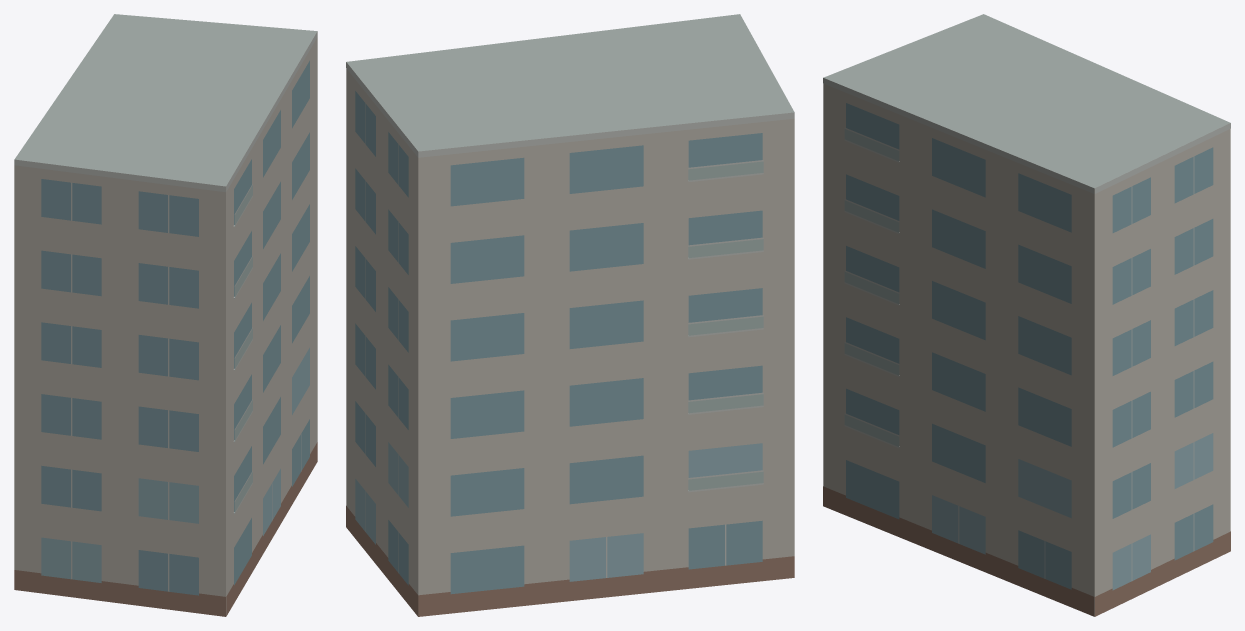
The model's file is survey-upis-32529057.glb.
The picture shows the model from 3 angles, left to right: view 1: azimuth 30°, elevation 25°; view 2: azimuth 150°, elevation 25°; view 3: azimuth 270°, elevation 25°; orthographic projection. The views are drawn at different scales.
Visible parts, largest first — view 1: survey-upis-32529057.tmp; view 2: survey-upis-32529057.tmp; view 3: survey-upis-32529057.tmp.
Part boxes in pixels (<box>): survey-upis-32529057.tmp: <box>14,14,317,616</box>; survey-upis-32529057.tmp: <box>346,14,794,616</box>; survey-upis-32529057.tmp: <box>823,14,1230,616</box>.
Bounding box in the file's own units: 15.98 × 18.3 × 15.78.
